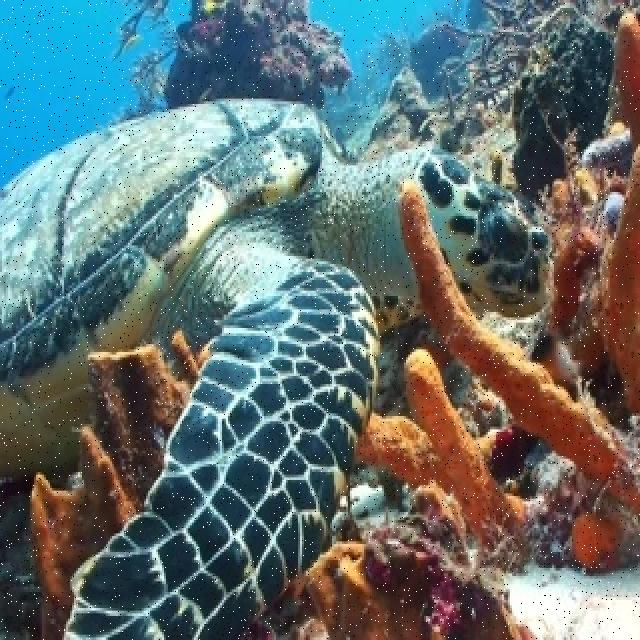fish: (0, 96, 554, 637)
reefs: (397, 178, 638, 523), (358, 341, 532, 539), (600, 149, 640, 417), (620, 6, 640, 131)
sea-floor: (28, 328, 210, 637), (420, 0, 611, 209), (294, 487, 549, 637), (163, 0, 351, 113)
